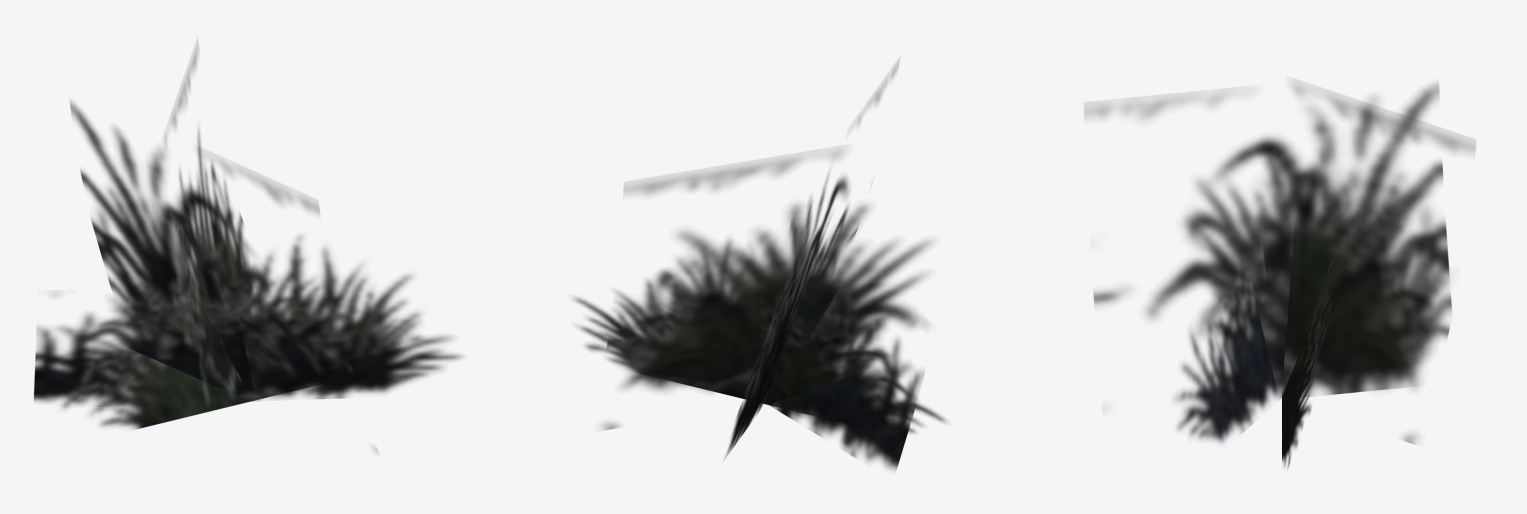
File: bui-co-dai-1.glb
3 renders of one model, left to right at view 1: azimuth 30°, elevation 25°; view 2: azimuth 150°, elevation 25°; view 3: azimuth 270°, elevation 25°, orthographic.
Visible parts, largest first — view 1: p0; view 2: p0; view 3: p0.
Boxes of the visible parts, left/top/right/bottom form: p0: left=34, top=42, right=462, bottom=453; p0: left=573, top=59, right=946, bottom=471; p0: left=1084, top=82, right=1475, bottom=469.
Bounding box in the file's own units: 0.5166 × 0.3483 × 0.5199.
4 materials, 4 textured.
